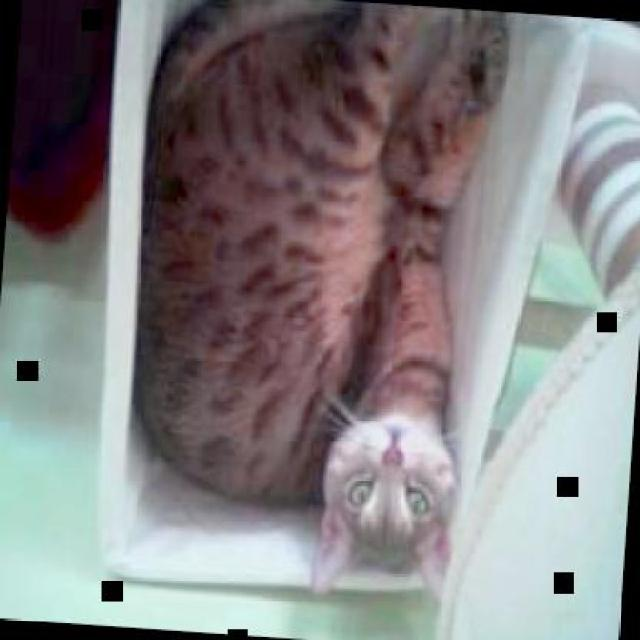cat: (111, 0, 515, 608)
